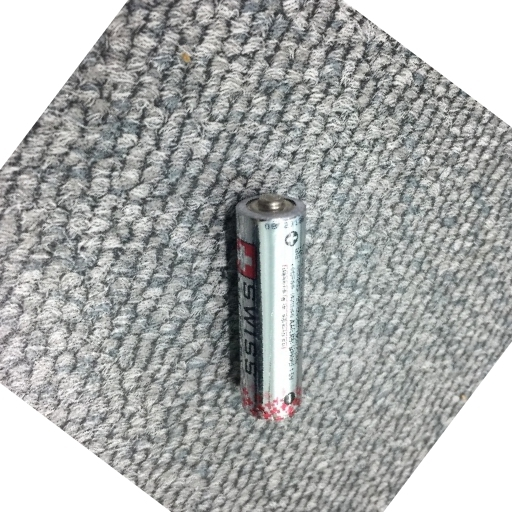Battery_0: (219, 181, 311, 429)
